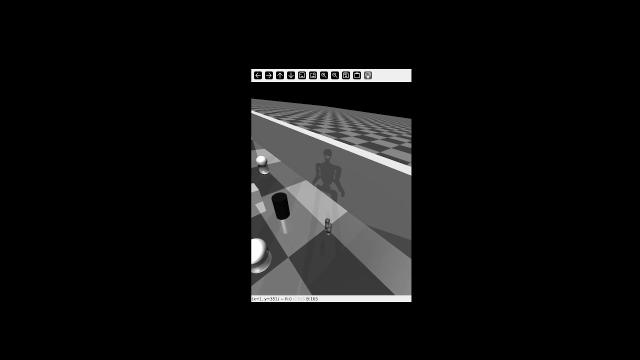cilindro: (270, 190, 294, 225)
cuadrado: (247, 182, 263, 207)
esfera: (247, 240, 266, 266), (258, 151, 269, 169), (322, 216, 331, 223), (324, 226, 333, 231), (327, 222, 332, 228)
